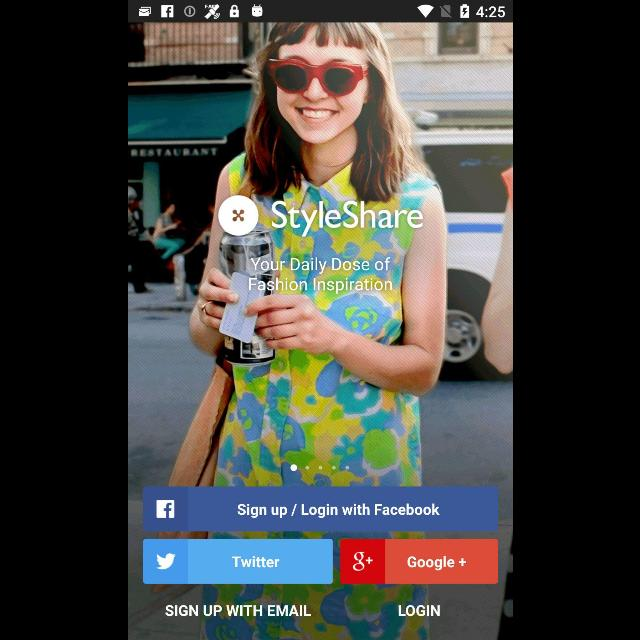backgroundimage: (128, 22, 512, 640)
image: (217, 195, 423, 237)
pageindicator: (289, 464, 349, 472)
text: (248, 258, 392, 294), (165, 606, 311, 616), (398, 605, 440, 617)
textbutton: (142, 486, 498, 532), (142, 540, 332, 584), (339, 538, 497, 584)
uppertaskbar: (128, 1, 512, 23)
